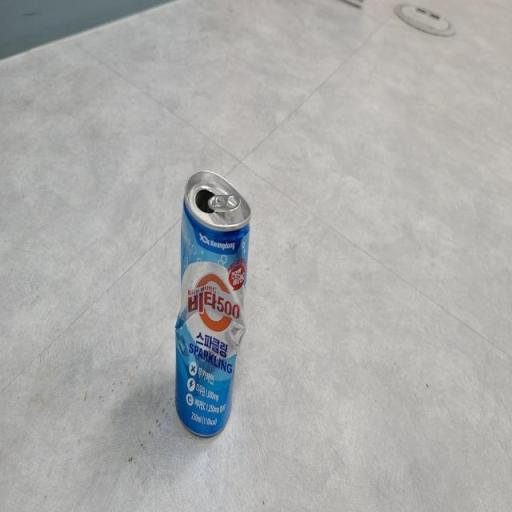metal: (141, 148, 262, 462)
